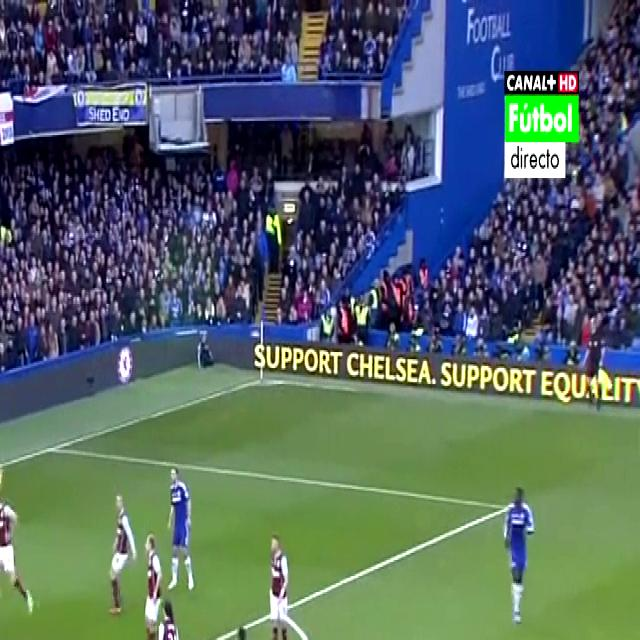referee: (570, 304, 616, 421)
soccer-player: (499, 474, 543, 626), (164, 450, 204, 592), (0, 485, 38, 633), (103, 476, 139, 632), (257, 524, 292, 640), (146, 595, 188, 640), (214, 611, 266, 640)
